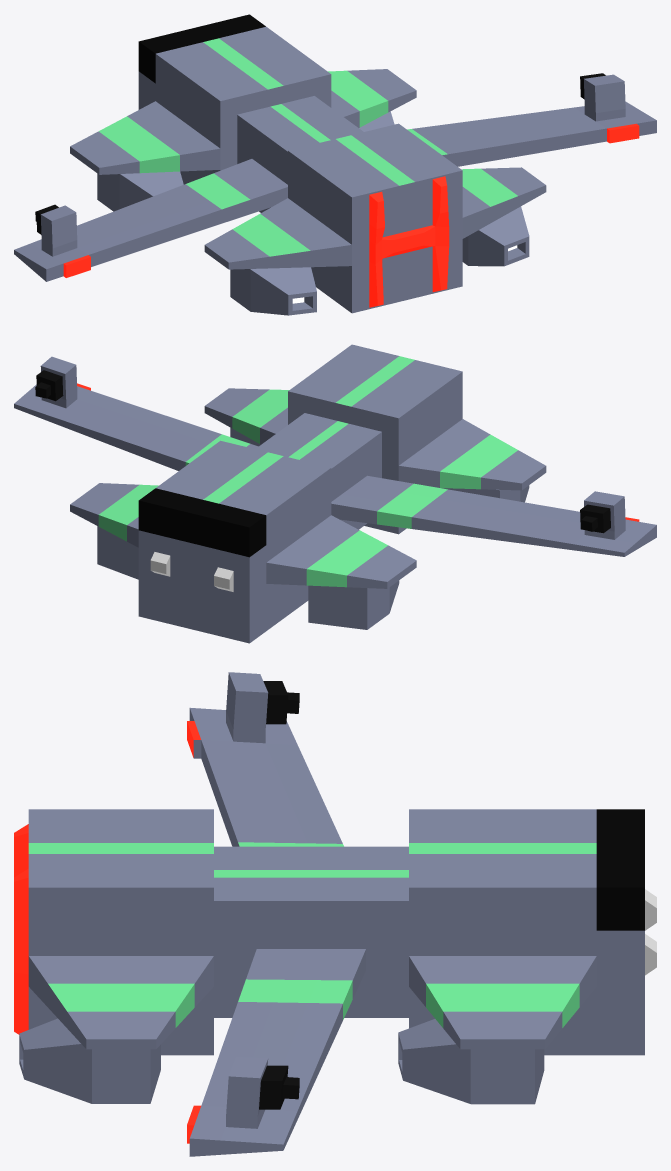
File: Spaceship3.fbx
3 renders of one model, top to bottom at view 1: azimuth 30°, elevation 25°; view 2: azimuth 150°, elevation 25°; view 3: azimuth 270°, elevation 25°, orthographic. The views are drawn at different scales.
Parts seen in each view (by area): view 1: Cube; view 2: Cube; view 3: Cube.
Boxes of the visible parts, <box> form: Cube: <box>14,14,656,315</box>; Cube: <box>14,344,656,643</box>; Cube: <box>14,672,656,1156</box>.
Size of the model in its own units: 559 by 101 by 353.
